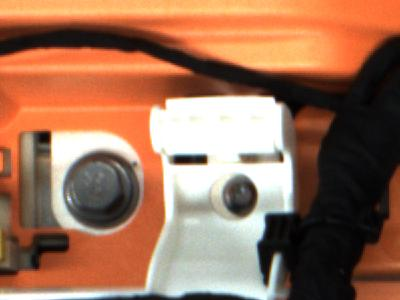nut_b: (62, 151, 148, 230)
